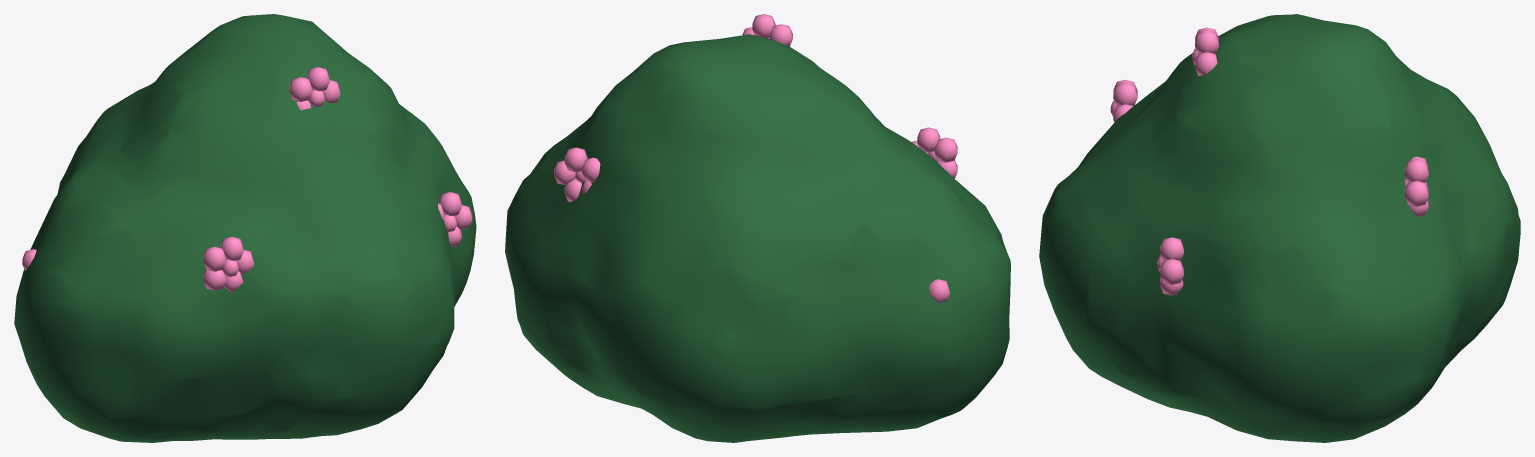
File: Arbusto.fbx
3 renders of one model, left to right at view 1: azimuth 30°, elevation 25°; view 2: azimuth 150°, elevation 25°; view 3: azimuth 270°, elevation 25°, orthographic. The views are drawn at different scales.
Visible parts, largest first — view 1: Arbusto_Hojas_Anim, Arbusto_Flores_Anim; view 2: Arbusto_Hojas_Anim, Arbusto_Flores_Anim; view 3: Arbusto_Hojas_Anim, Arbusto_Flores_Anim.
Part boxes in pixels (left/top/right/bottom): Arbusto_Hojas_Anim: left=14, top=14, right=476, bottom=442; Arbusto_Flores_Anim: left=22, top=67, right=472, bottom=292; Arbusto_Hojas_Anim: left=505, top=34, right=1010, bottom=442; Arbusto_Flores_Anim: left=554, top=14, right=957, bottom=303; Arbusto_Hojas_Anim: left=1039, top=14, right=1520, bottom=442; Arbusto_Flores_Anim: left=1110, top=27, right=1428, bottom=295.
Size of the model in its own units: 4.67 by 3.57 by 4.13.
